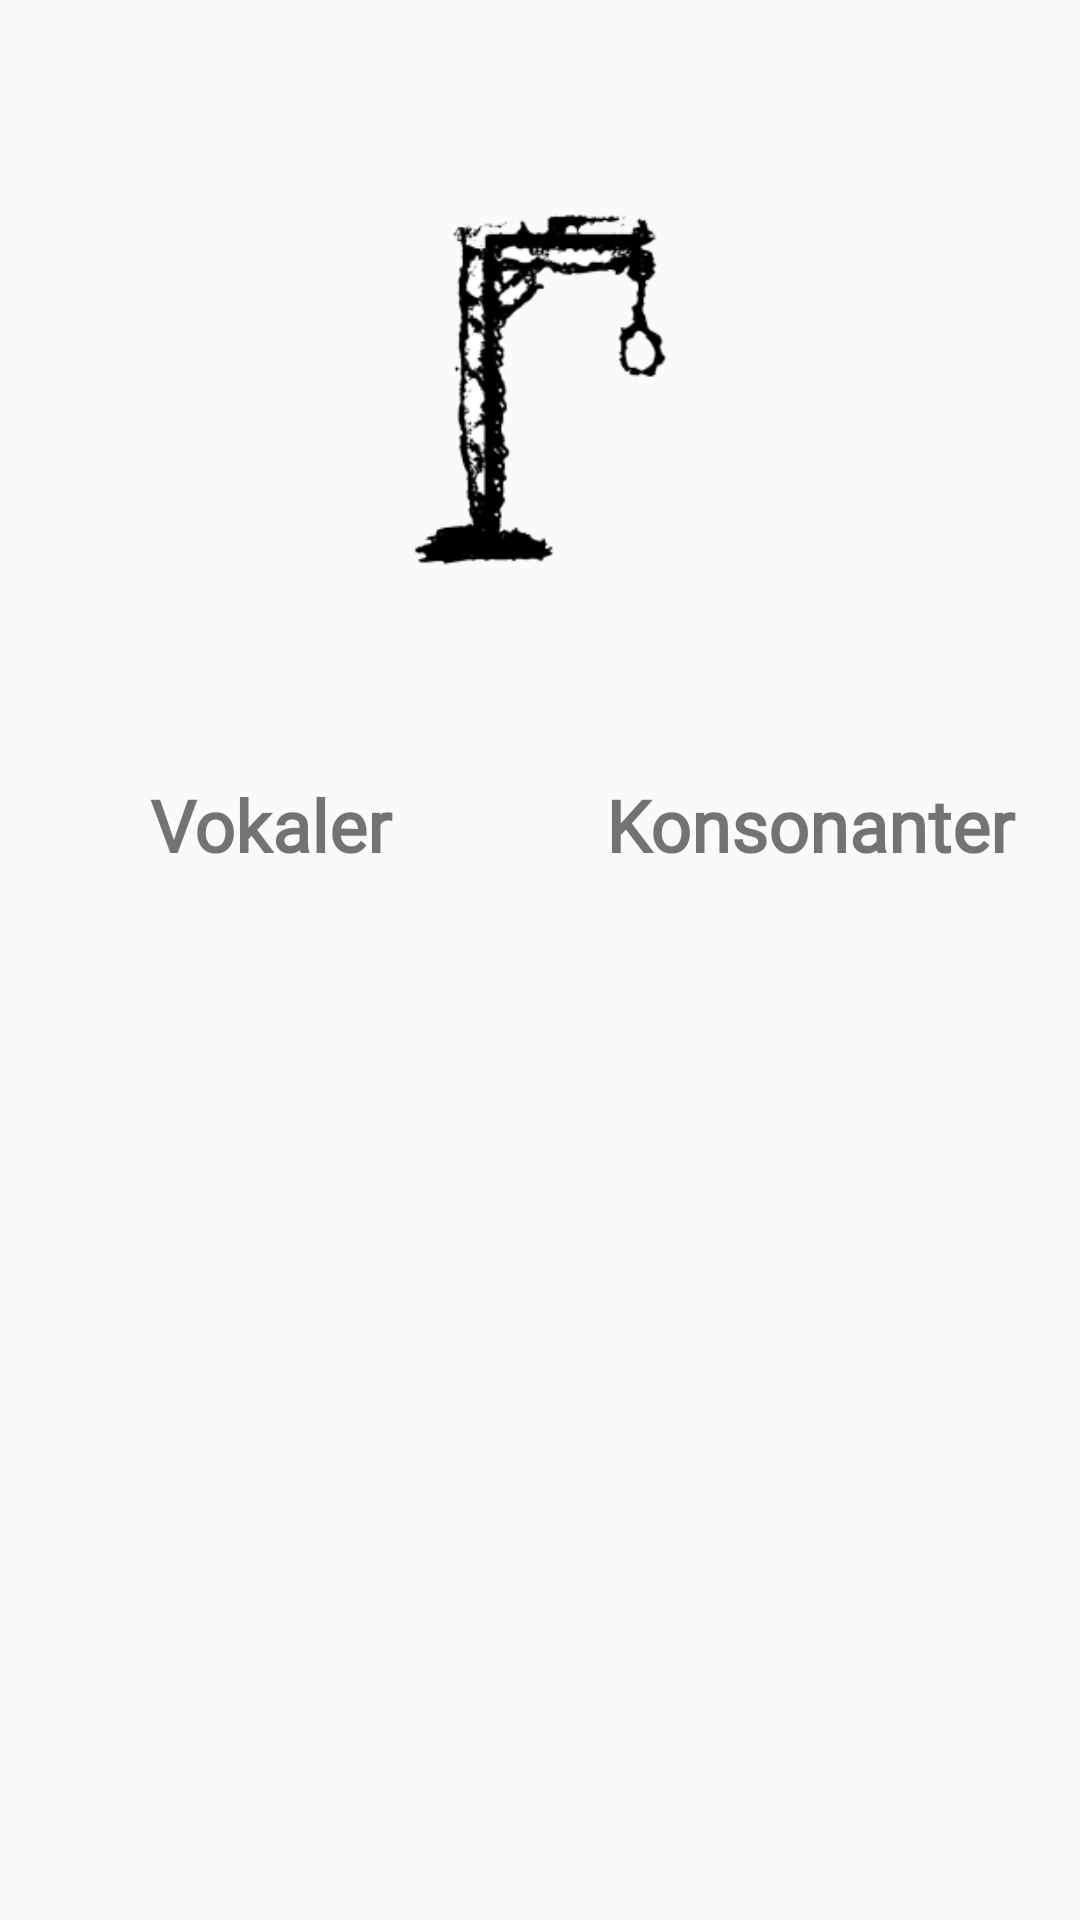

Locate icon controls on the screen. Image size 1080px×1920px, boxes as [x1, y1, x2, y2].
galge: [415, 214, 666, 565]
